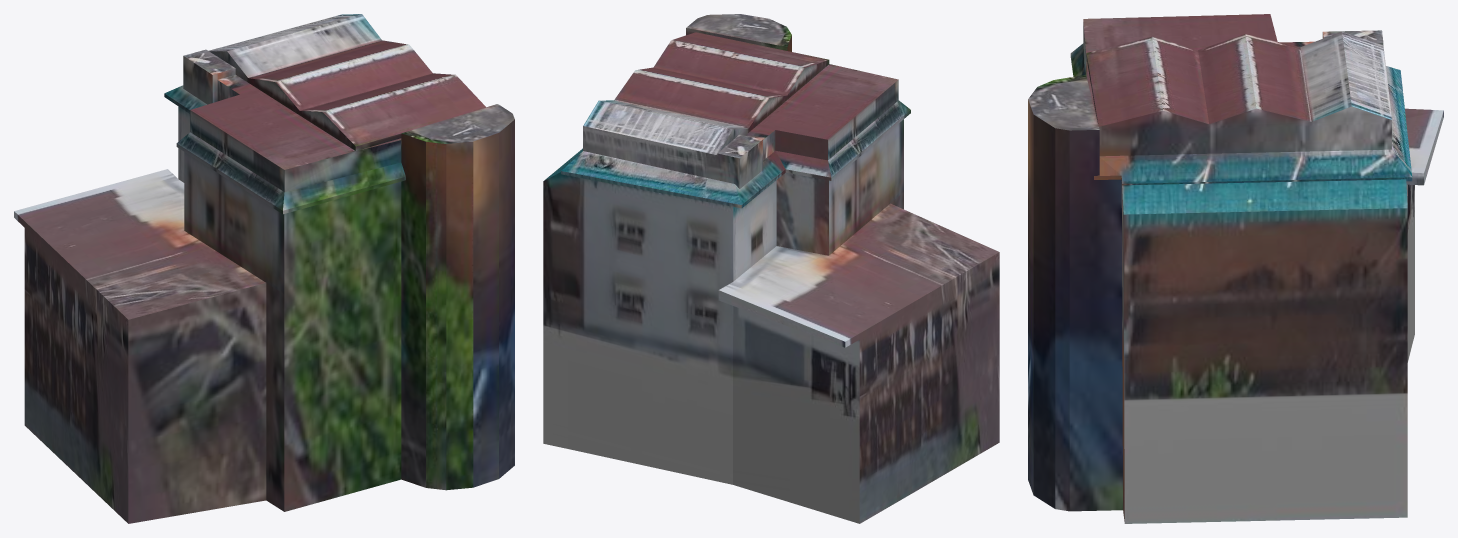
The picture shows the model from 3 angles, left to right: view 1: azimuth 30°, elevation 25°; view 2: azimuth 150°, elevation 25°; view 3: azimuth 270°, elevation 25°; orthographic projection. The views are drawn at different scales.
Parts seen in each view (by area): view 1: B293574042901062A0; view 2: B293574042901062A0; view 3: B293574042901062A0.
Part boxes in pixels (<box>): B293574042901062A0: <box>14,14,514,523</box>; B293574042901062A0: <box>543,14,999,523</box>; B293574042901062A0: <box>1028,14,1443,523</box>.
Size of the model in its own units: 13.49 by 12.2 by 11.7.
1 material, 1 textured.
